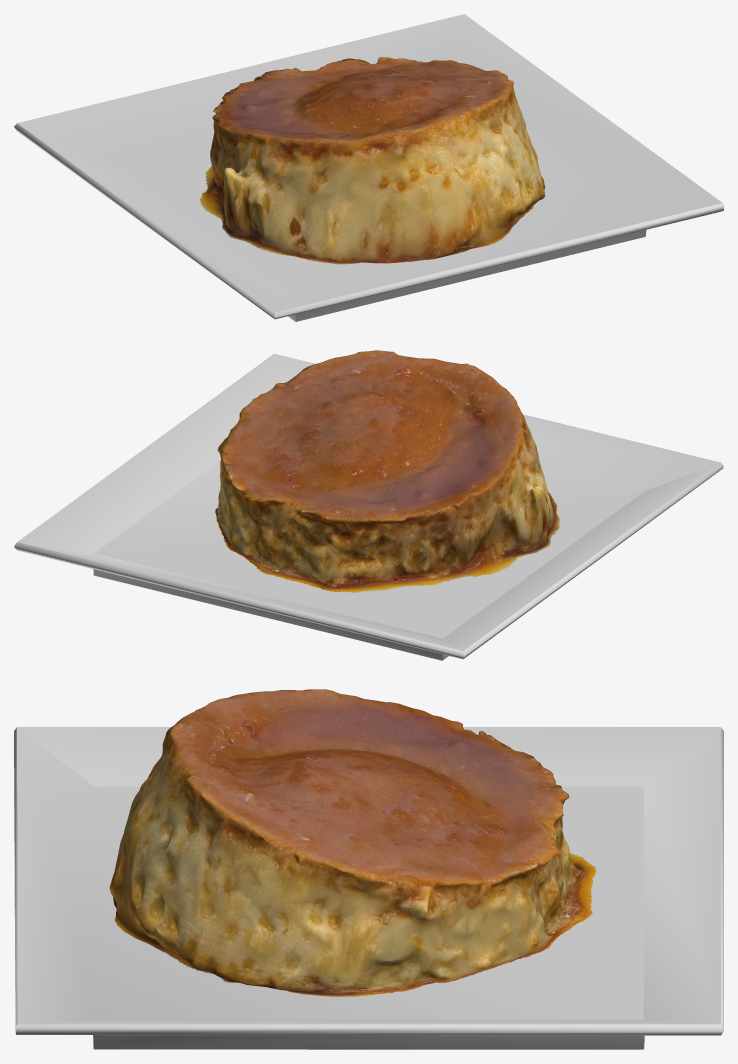
Rendered from pudim-v03.glb.
The picture shows the model from 3 angles, top to bottom: view 1: azimuth 30°, elevation 25°; view 2: azimuth 150°, elevation 25°; view 3: azimuth 270°, elevation 25°; orthographic projection. The views are drawn at different scales.
Parts seen in each view (by area): view 1: Plate_blinn1_0, Model_material0.001_0; view 2: Model_material0.001_0, Plate_blinn1_0; view 3: Plate_blinn1_0, Model_material0.001_0.
Part boxes in pixels (bbox=[...]): Plate_blinn1_0: bbox=[14, 14, 723, 321]; Model_material0.001_0: bbox=[200, 57, 545, 264]; Model_material0.001_0: bbox=[215, 350, 560, 592]; Plate_blinn1_0: bbox=[14, 353, 723, 660]; Plate_blinn1_0: bbox=[14, 727, 723, 1049]; Model_material0.001_0: bbox=[109, 689, 596, 997].
Bounding box in the file's own units: 0.12 × 0.0344 × 0.12.
2 materials, 1 textured.
